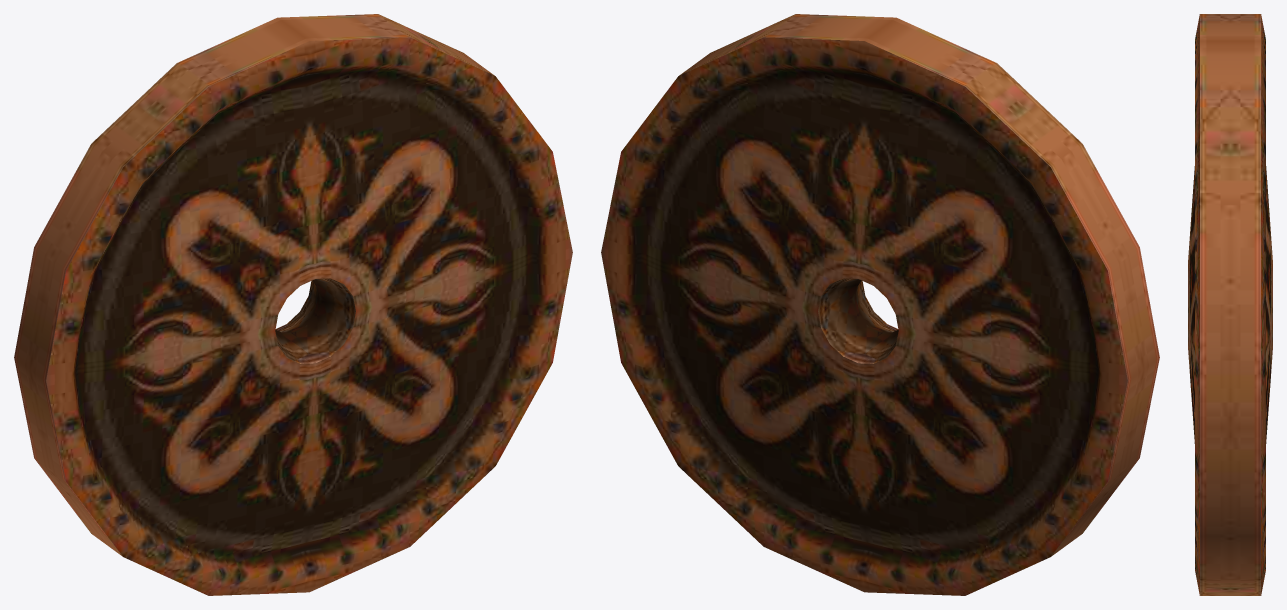
File: luopan-5.FBX
3 views of the same model, side by side, from view 1: azimuth 30°, elevation 25°; view 2: azimuth 150°, elevation 25°; view 3: azimuth 270°, elevation 25° (orthographic). The views are drawn at different scales.
Visible parts, largest first — view 1: luopan-5; view 2: luopan-5; view 3: luopan-5.
Boxes of the visible parts, x1=… form: luopan-5: x1=14, y1=14, x2=572, y2=595; luopan-5: x1=601, y1=14, x2=1159, y2=595; luopan-5: x1=1188, y1=14, x2=1272, y2=595.
Size of the model in its own units: 20.22 by 20.22 by 2.94.
Materials: 1 (1 with a texture image).
